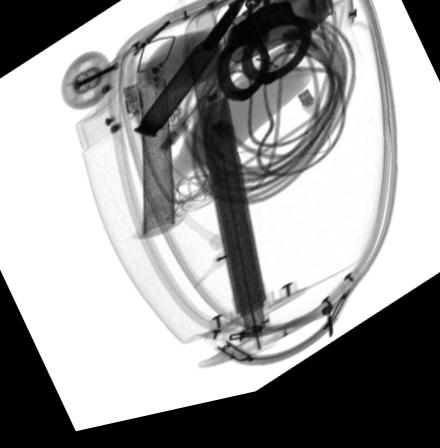Bullet: (132, 3, 249, 146)
HandCuffs: (215, 0, 321, 116)
